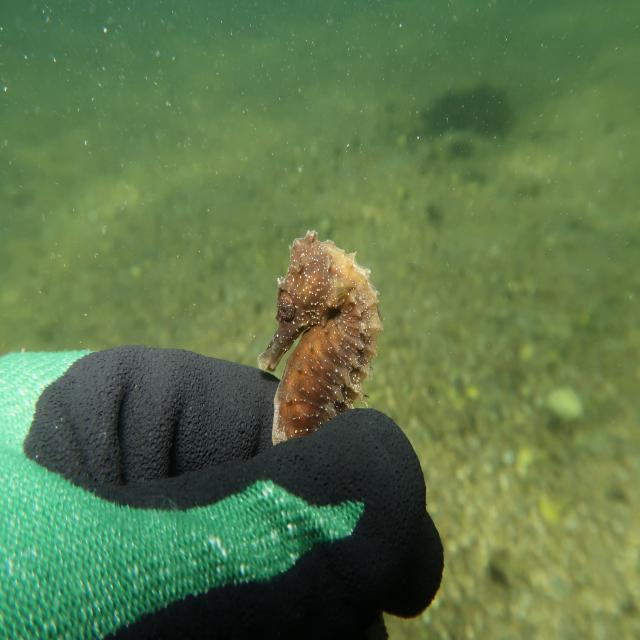Guttu: (250, 214, 352, 378)
